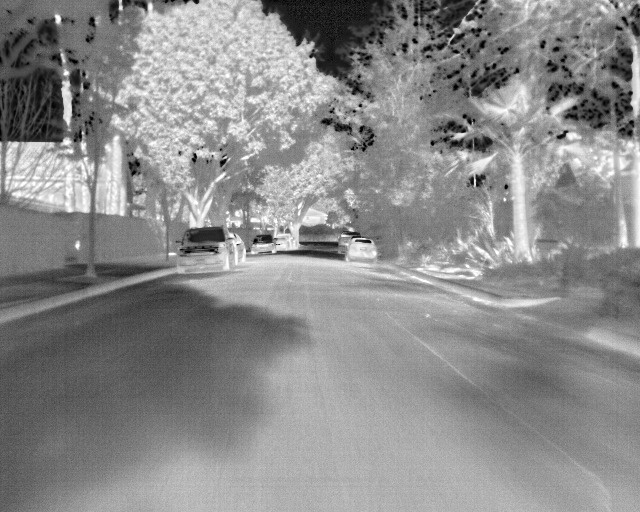vehicle: (174, 225, 235, 279), (347, 238, 378, 263), (251, 233, 277, 256)
